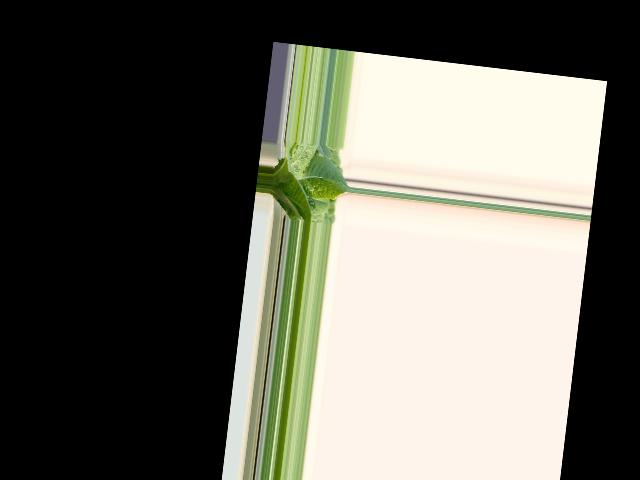lettuce: (267, 147, 346, 223)
